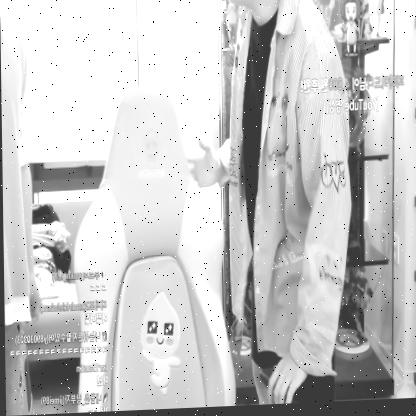donation: (299, 0, 405, 119)
streamer: (183, 0, 354, 410), (0, 0, 41, 416)
